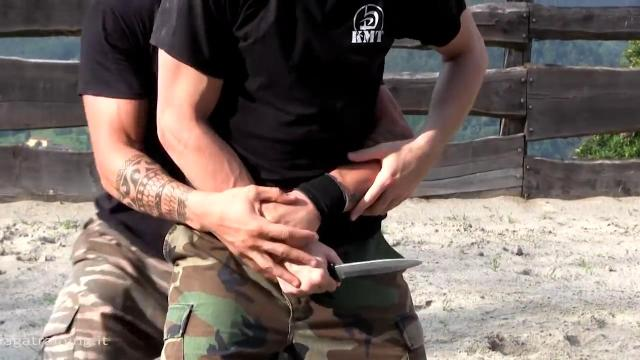pocket-knife: (279, 246, 429, 300)
